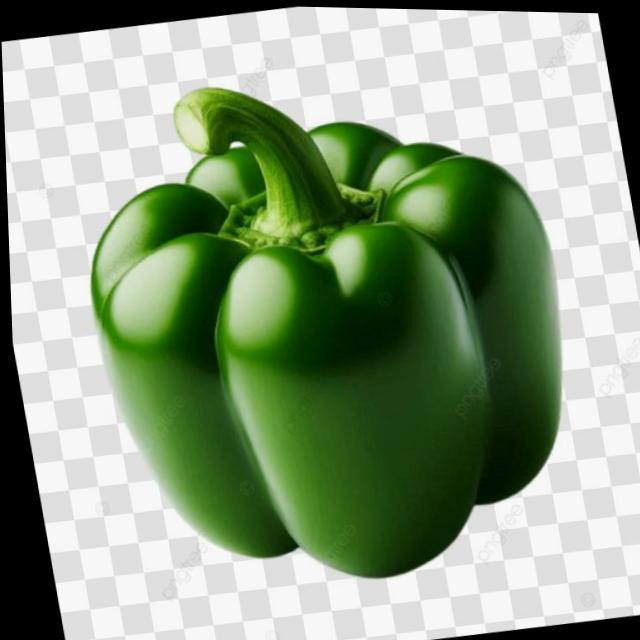Capsicum: (52, 34, 603, 615)
